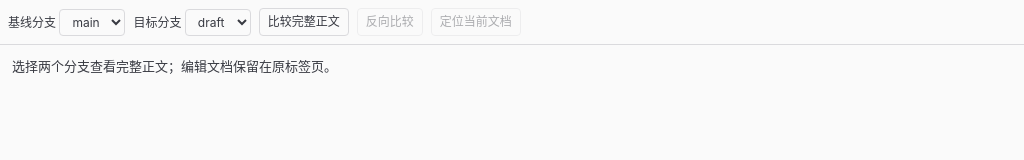
Scenario: 选择改变会取消等待状态，旧文件清单迟到也不能重新出现
The width and height of the screenshot is (1024, 160).
Click the button "比较完整正文" at point(304, 22), box [259,8,349,36]
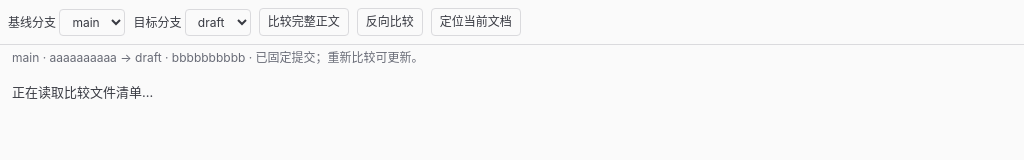
Now the text "正在读取比较文件清单…" is shown, box [12,84,153,100]
Select "main" in the dropdown labelled "目标分支" at point(218, 22), box [185,8,251,36]
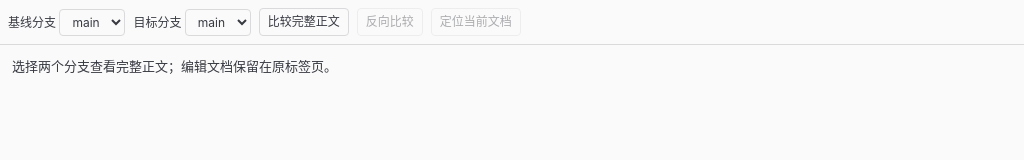
Now the text "正在读取比较文件清单…" is gone
